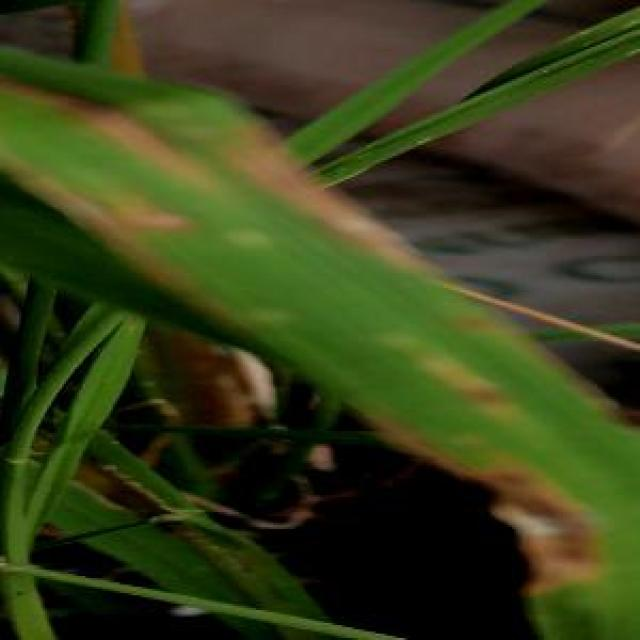Leaf_Blast: (217, 102, 428, 273), (461, 446, 595, 593), (98, 188, 196, 241)
